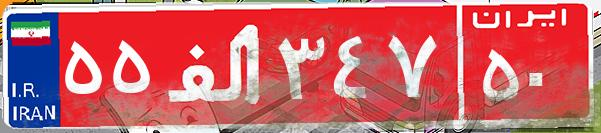0: (525, 38, 570, 115)
3: (273, 28, 330, 110)
4: (330, 28, 385, 110)
5: (57, 26, 110, 107), (475, 38, 525, 113), (110, 28, 158, 105)
7: (385, 28, 445, 110)
الف: (158, 15, 273, 115)
